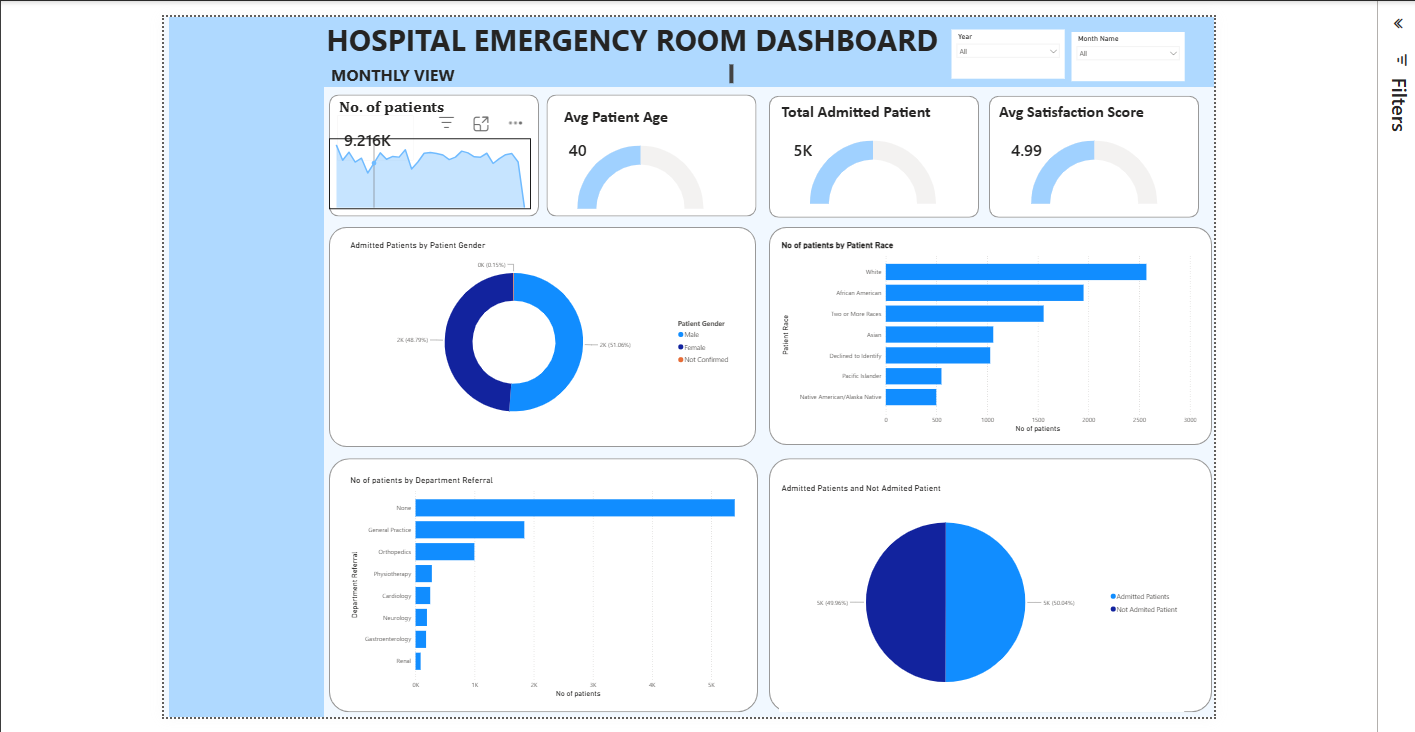

This screenshot's page, from the dashboard's own definition file:
{"tool":"powerbi","page":{"name":"Page 1","canvas":[2100,1400],"ordinal":0},"visuals":[{"type":"shape","box":[10,0,310,1400],"z":0},{"type":"shape","box":[320,0,1780,140],"z":1000},{"type":"shape","box":[330,156,420,244],"z":2000},{"type":"textbox","box":[320,0,1495,155],"z":3000},{"type":"textbox","box":[784,178,806,200],"z":4000},{"type":"cardVisual","fields":{"Data":["Date Table.No of patients"]},"box":[330,180,186,124],"z":5000},{"type":"slicer","fields":{"Values":["Date Table.Year"]},"box":[1576,26,226,98],"z":6000},{"type":"slicer","fields":{"Values":["Date Table.Month Name"]},"box":[1816,30,226,98],"z":7000},{"type":"stackedAreaChart","fields":{"Category":["Date Table.Date.Variation.Date Hierarchy.Day"],"Y":["Date Table.No of patients"]},"box":[330,242,406,144],"z":8000},{"type":"textbox","box":[344,156,406,62],"z":9000},{"type":"shape","box":[764,156,420,244],"z":10000},{"type":"shape","box":[1209.3,158,420,244],"z":11000},{"type":"shape","box":[1650,158,420,244],"z":12000},{"type":"cardVisual","fields":{"Data":["Hospital ER_Data.Avg Patient Age"]},"box":[780,174,270,176],"z":13000},{"type":"textbox","box":[330,90,814,50],"z":14000},{"type":"textbox","box":[1666,164,346,64],"z":15000},{"type":"gauge","fields":{"Y":["Hospital ER_Data.Avg Patient Age"]},"box":[780,252,346,136],"z":16000},{"type":"cardVisual","fields":{"Data":["Hospital ER_Data.Admitted Patients"]},"box":[1230,174,270,176],"z":17000},{"type":"textbox","box":[1230,164,346,64],"z":18000},{"type":"gauge","fields":{"Y":["Hospital ER_Data.Admitted Patients"]},"box":[1246,242,346,136],"z":19000},{"type":"cardVisual","fields":{"Data":["Hospital ER_Data.Average Satisfaction Score"]},"box":[1666,208,248,112],"z":19001},{"type":"gauge","fields":{"Y":["Hospital ER_Data.Average Satisfaction Score"]},"box":[1688,242,346,136],"z":19002},{"type":"textbox","box":[794,174,306,64],"z":19003},{"type":"shape","box":[330,420,854,440],"z":19004},{"type":"shape","box":[1214,420,886,436],"z":19005},{"type":"shape","box":[330,882,858,508],"z":19006},{"type":"shape","box":[1210,882,886,508],"z":19007},{"type":"donutChart","fields":{"Category":["Hospital ER_Data.Patient Gender"],"Y":["Hospital ER_Data.Admitted Patients"]},"box":[368,444,776,392],"z":19008},{"type":"clusteredBarChart","fields":{"Category":["Hospital ER_Data.Patient Race"],"Y":["Date Table.No of patients"]},"box":[1230,444,840,392],"z":19009},{"type":"clusteredBarChart","fields":{"Category":["Hospital ER_Data.Department Referral"],"Y":["Date Table.No of patients"]},"box":[368,916,798,452],"z":19010},{"type":"pieChart","fields":{"Y":["Hospital ER_Data.Admitted Patients","Hospital ER_Data.Not Admited Patient"]},"box":[1230,932.5,810,457.5],"z":19011}]}

Visuals, with their boxes in screenshot pixels (x1, y1, x2, y2):
shape: bbox=(167, 26, 322, 723)
shape: bbox=(322, 26, 1208, 96)
shape: bbox=(327, 104, 536, 225)
textbox: bbox=(322, 26, 1066, 103)
textbox: bbox=(553, 114, 954, 214)
cardVisual - Date Table.No of patients: bbox=(327, 115, 419, 177)
slicer - Date Table.Year: bbox=(947, 39, 1060, 88)
slicer - Date Table.Month Name: bbox=(1067, 41, 1180, 90)
stackedAreaChart - Date Table.Date.Variation.Date Hierarchy.Day x Date Table.No of patients: bbox=(327, 146, 529, 218)
textbox: bbox=(334, 104, 536, 134)
shape: bbox=(543, 104, 752, 225)
shape: bbox=(765, 105, 974, 226)
shape: bbox=(984, 105, 1193, 226)
cardVisual - Hospital ER_Data.Avg Patient Age: bbox=(551, 112, 685, 200)
textbox: bbox=(327, 71, 732, 96)
textbox: bbox=(992, 107, 1165, 139)
gauge - Hospital ER_Data.Avg Patient Age: bbox=(551, 151, 723, 219)
cardVisual - Hospital ER_Data.Admitted Patients: bbox=(775, 112, 909, 200)
textbox: bbox=(775, 107, 947, 139)
gauge - Hospital ER_Data.Admitted Patients: bbox=(783, 146, 955, 214)
cardVisual - Hospital ER_Data.Average Satisfaction Score: bbox=(992, 129, 1116, 185)
gauge - Hospital ER_Data.Average Satisfaction Score: bbox=(1003, 146, 1176, 214)
textbox: bbox=(558, 112, 710, 144)
shape: bbox=(327, 235, 752, 454)
shape: bbox=(767, 235, 1208, 452)
shape: bbox=(327, 465, 754, 718)
shape: bbox=(765, 465, 1206, 718)
donutChart - Hospital ER_Data.Patient Gender x Hospital ER_Data.Admitted Patients: bbox=(345, 247, 732, 442)
clusteredBarChart - Hospital ER_Data.Patient Race x Date Table.No of patients: bbox=(775, 247, 1193, 442)
clusteredBarChart - Hospital ER_Data.Department Referral x Date Table.No of patients: bbox=(345, 482, 743, 707)
pieChart - Hospital ER_Data.Admitted Patients x Hospital ER_Data.Not Admited Patient: bbox=(775, 490, 1179, 718)
